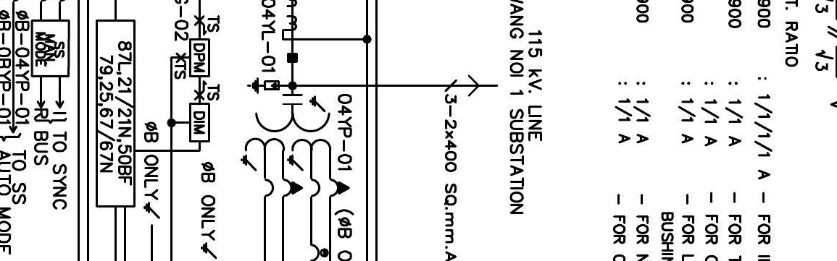115_cvt_1p: (240, 93, 350, 199)
115_la: (246, 77, 280, 94)
DIM: (189, 103, 210, 142)
DPM: (189, 38, 210, 78)
ss_man_mode: (31, 19, 70, 78)
